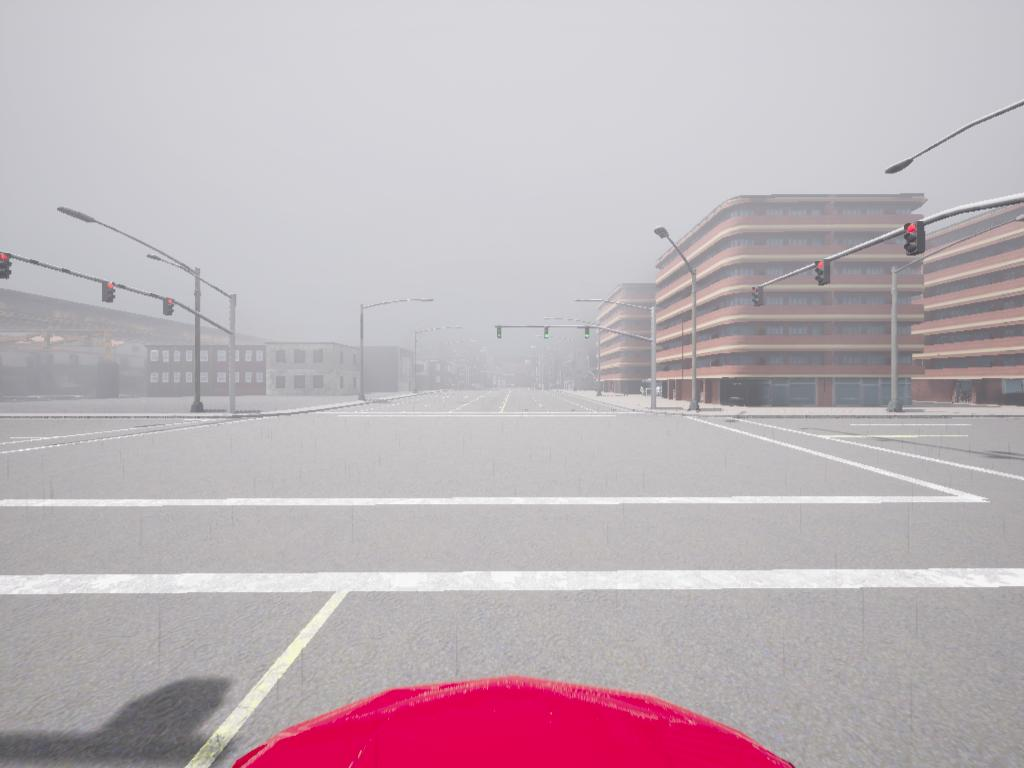traffic_light: (905, 222, 926, 256), (816, 259, 829, 287), (1, 252, 13, 280), (104, 280, 115, 304), (753, 287, 764, 308), (165, 297, 174, 317), (585, 327, 591, 341), (498, 327, 503, 340), (545, 327, 550, 340)
